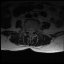CCS_normal: (29, 28, 31, 36)
LFS_normal: (33, 27, 35, 34)
LLS_normal: (31, 27, 33, 35)
RFS_normal: (25, 26, 27, 34)
RLS_normal: (27, 27, 29, 35)
